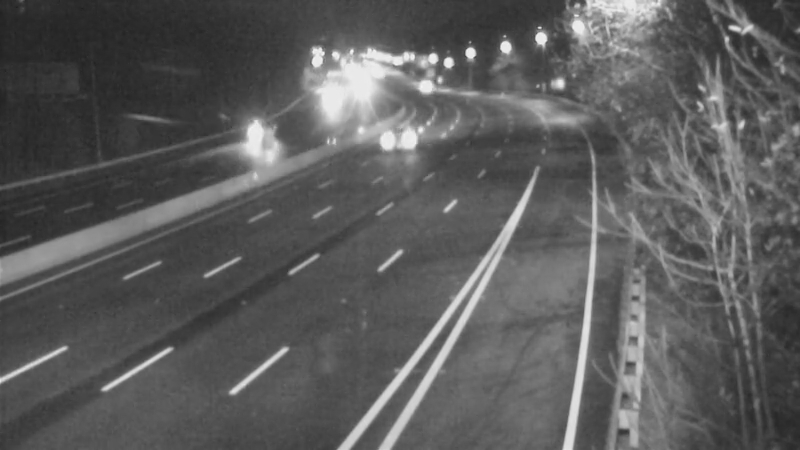vehicle: (394, 60, 444, 110), (372, 112, 422, 162), (227, 117, 277, 167), (305, 73, 355, 123)
